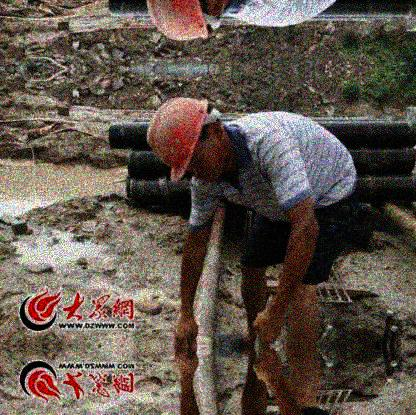helmet: (144, 94, 229, 183)
